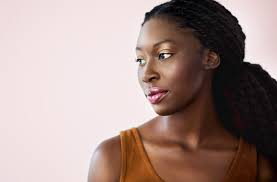black_female: (121, 2, 254, 123)
